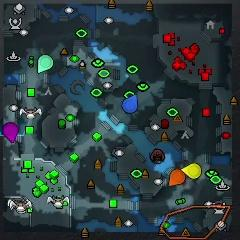p1: (122, 94, 138, 114)
p2: (37, 55, 54, 74)
p3: (2, 123, 19, 142)
p4: (181, 163, 202, 178)
p5: (169, 170, 185, 186)
